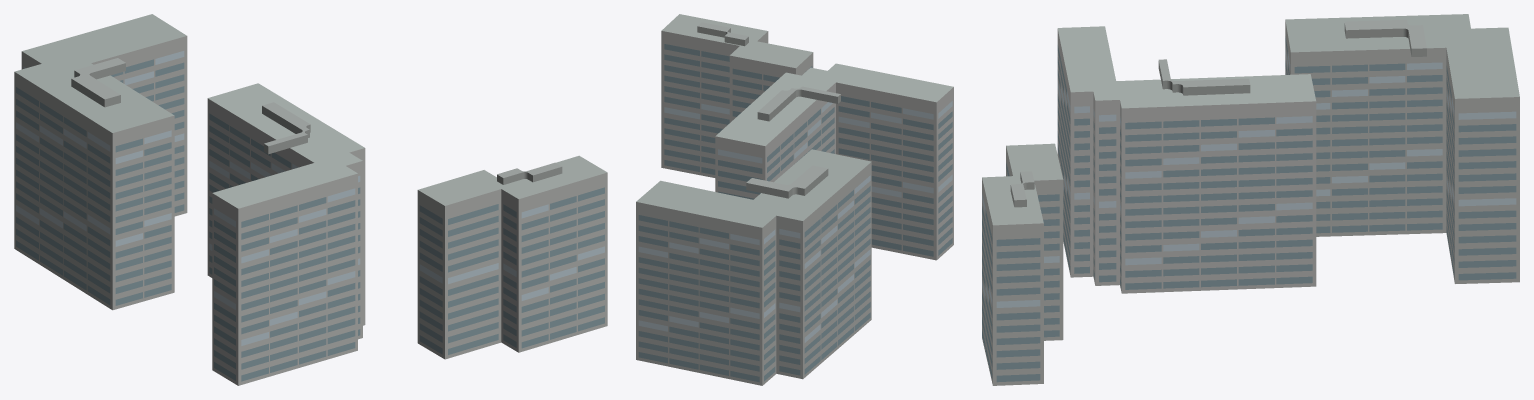
Rendered from apt-a15086004.glb.
The picture shows the model from 3 angles, left to right: view 1: azimuth 30°, elevation 25°; view 2: azimuth 150°, elevation 25°; view 3: azimuth 270°, elevation 25°; orthographic projection. The views are drawn at different scales.
Visible parts, largest first — view 1: apt-a15086004; view 2: apt-a15086004; view 3: apt-a15086004.
Part boxes in pixels (bbox=[...]): apt-a15086004: bbox=[14, 14, 607, 385]; apt-a15086004: bbox=[636, 14, 953, 385]; apt-a15086004: bbox=[982, 14, 1519, 385].
Bounding box in the file's own units: 98.88 × 47.81 × 120.
